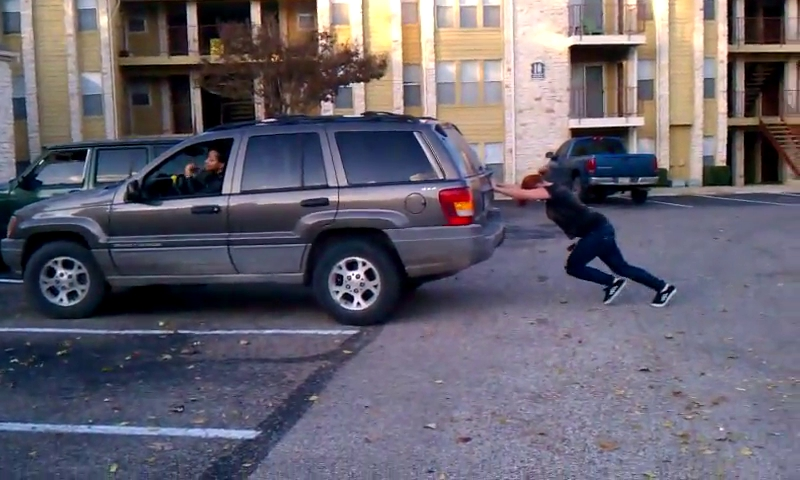person: (492, 174, 678, 309), (184, 145, 227, 197)
